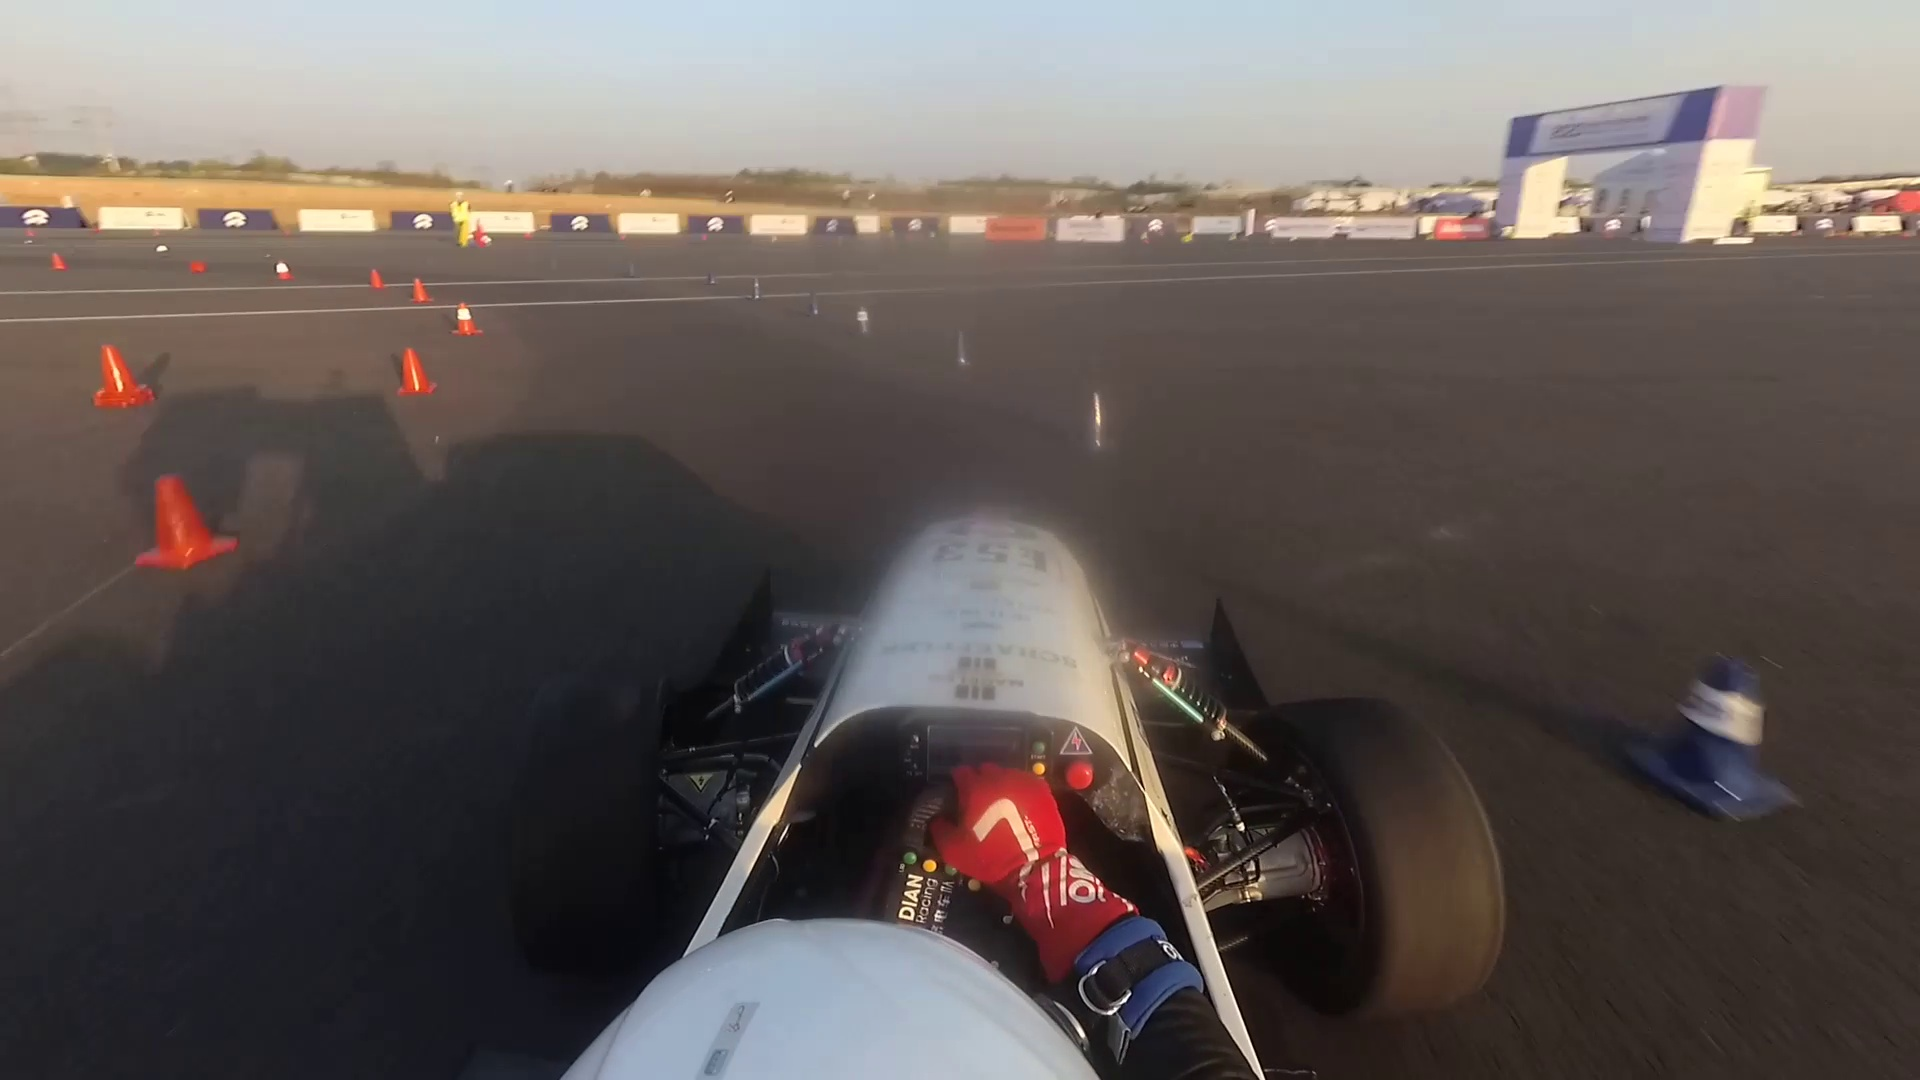blue_cone: (1638, 644, 1813, 823), (1063, 378, 1124, 462), (949, 324, 977, 375), (847, 298, 880, 339), (744, 274, 769, 305), (803, 287, 825, 318), (622, 252, 644, 284), (704, 258, 723, 291)
red_cone: (136, 465, 257, 576), (76, 340, 166, 425), (389, 348, 438, 402), (448, 302, 489, 344), (398, 272, 433, 302), (183, 248, 215, 278), (44, 244, 73, 274), (367, 265, 385, 297), (268, 261, 295, 282)
